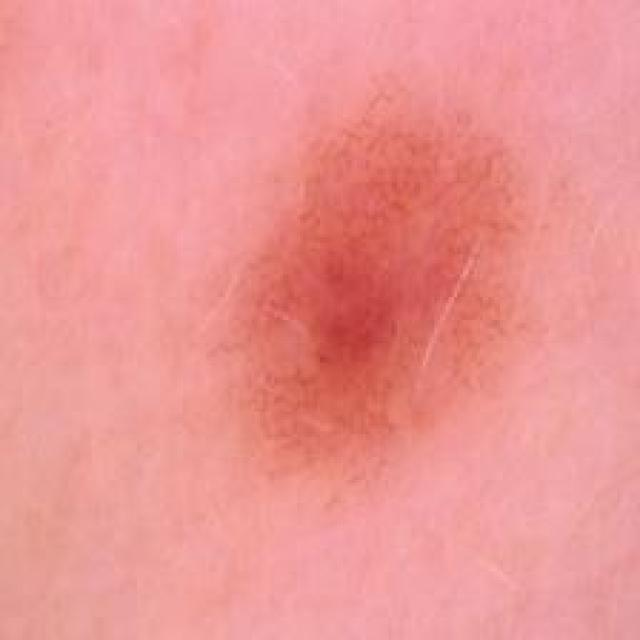Cancer: (228, 100, 520, 494)
